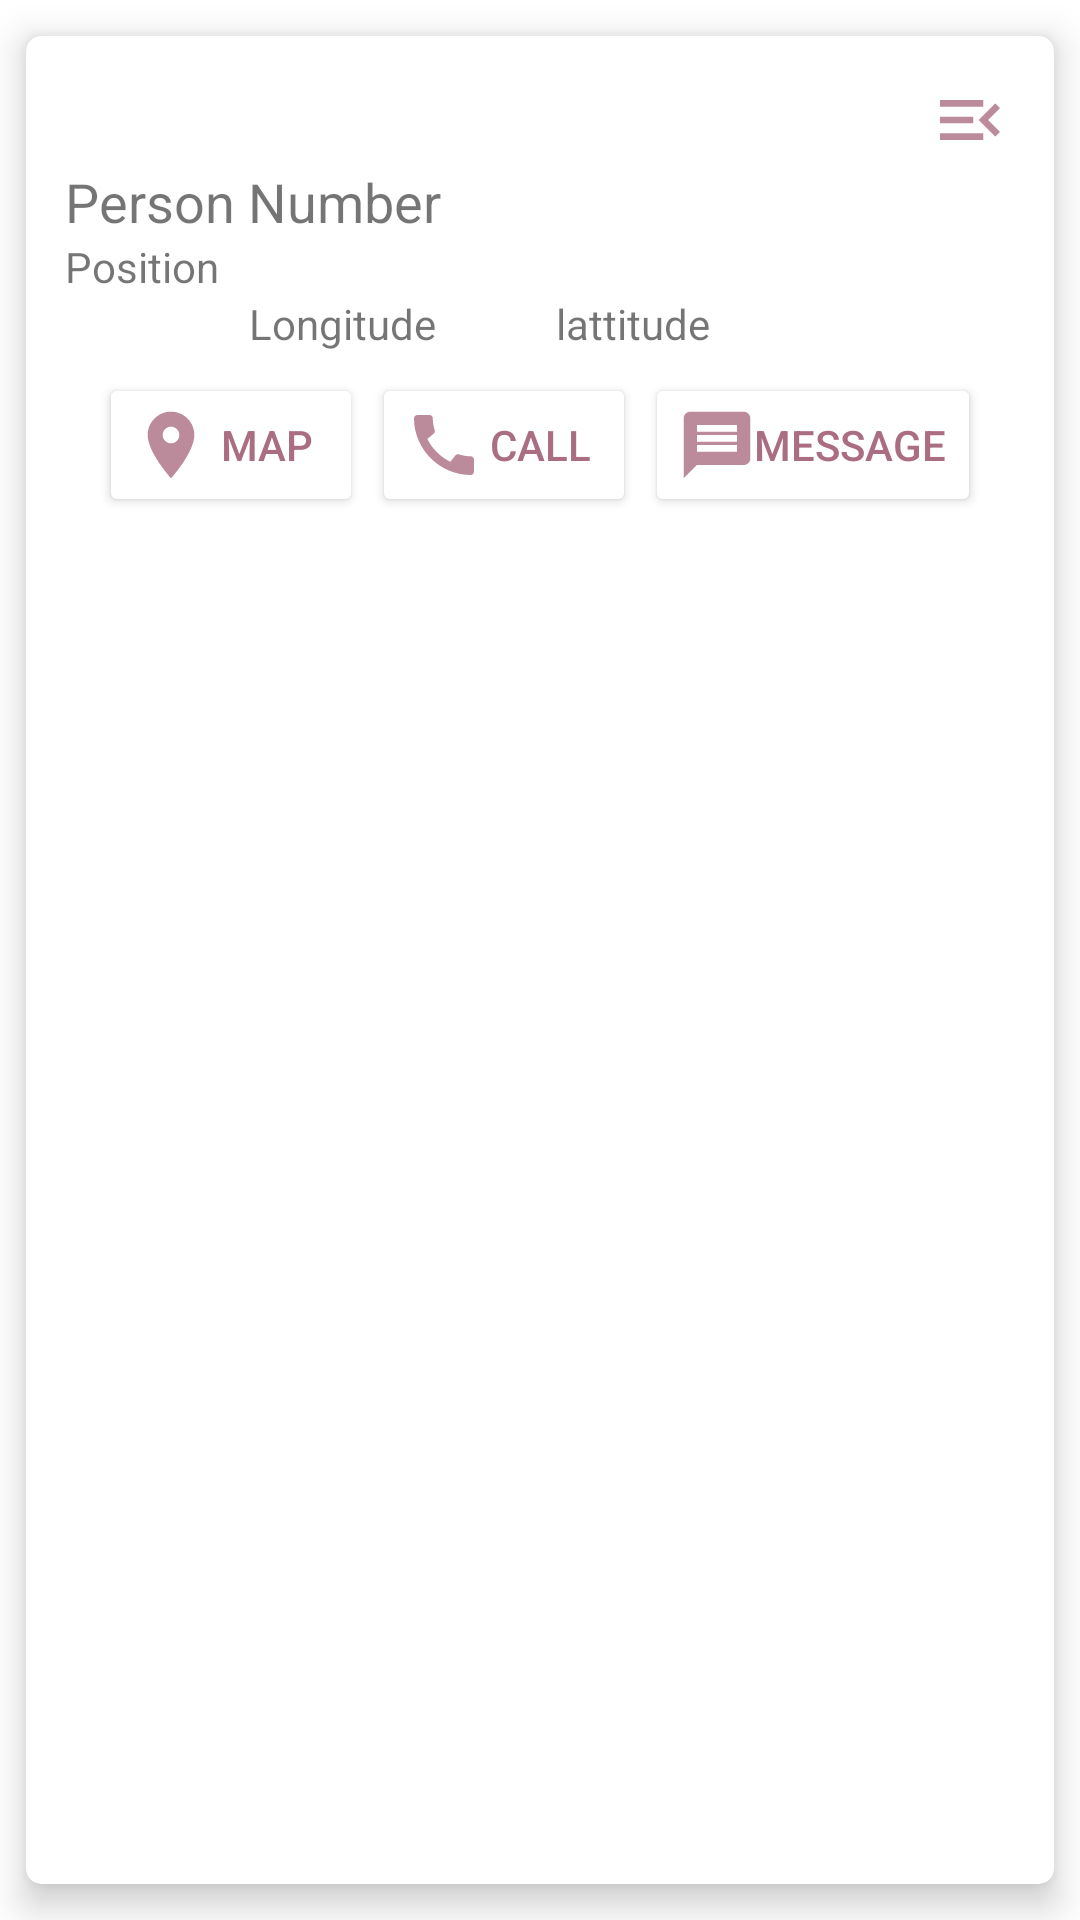

Named icons in this screenshot (1080px x 1920px) and their bounding boxes, detection(x1, y1, x2, y2):
menu: detection(940, 100, 1000, 140)
